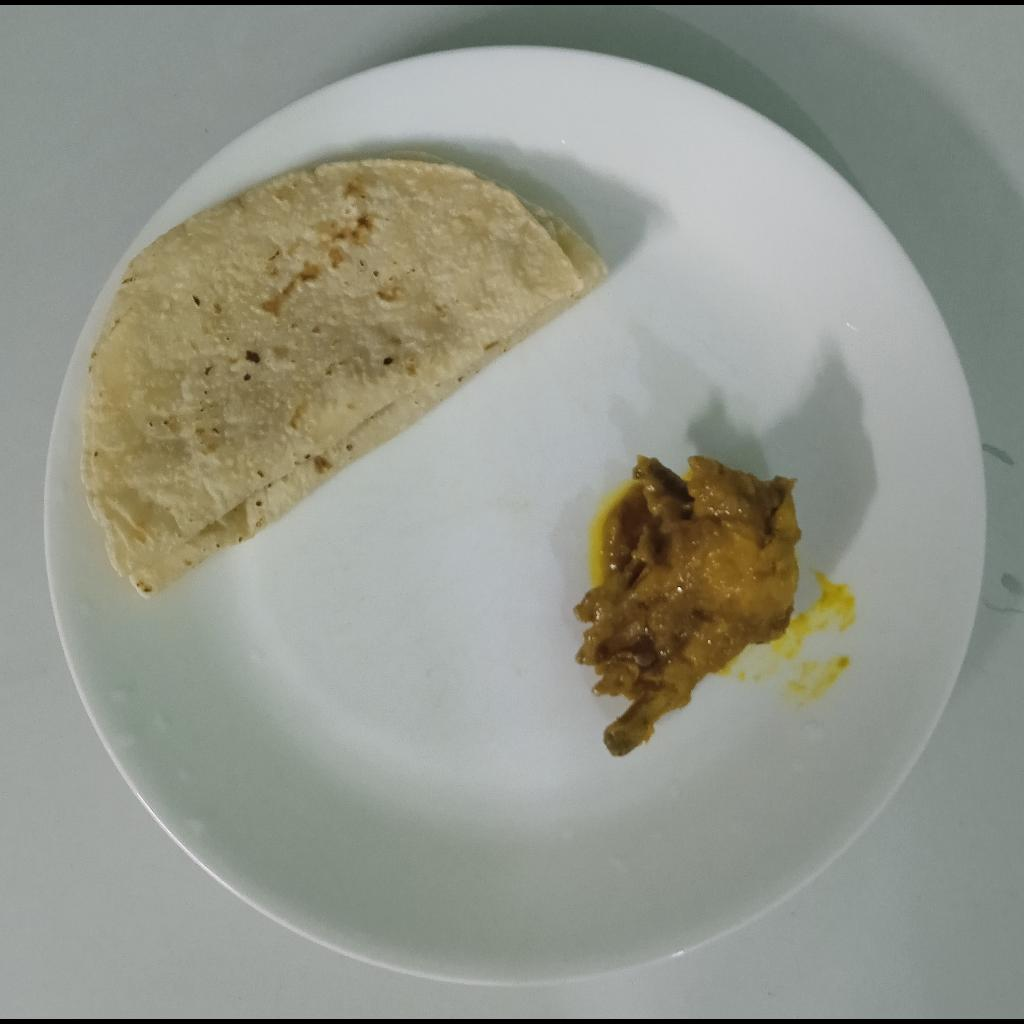chicken: (573, 456, 800, 757)
ruti: (79, 151, 610, 604)
